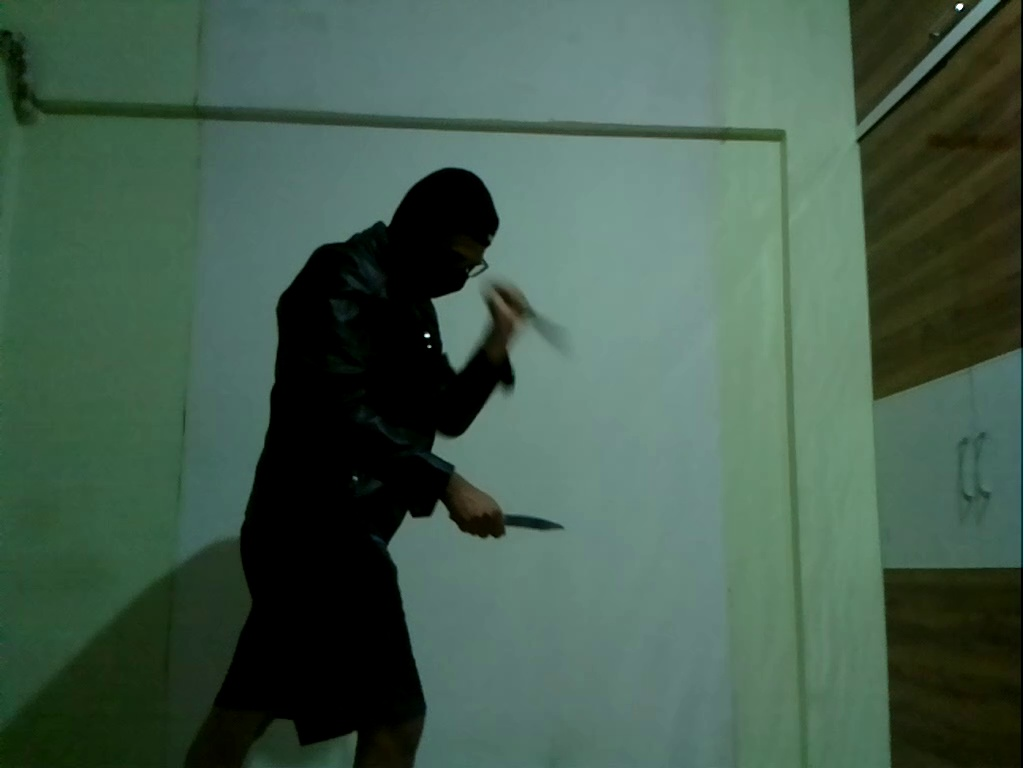knife: (493, 511, 570, 541)
